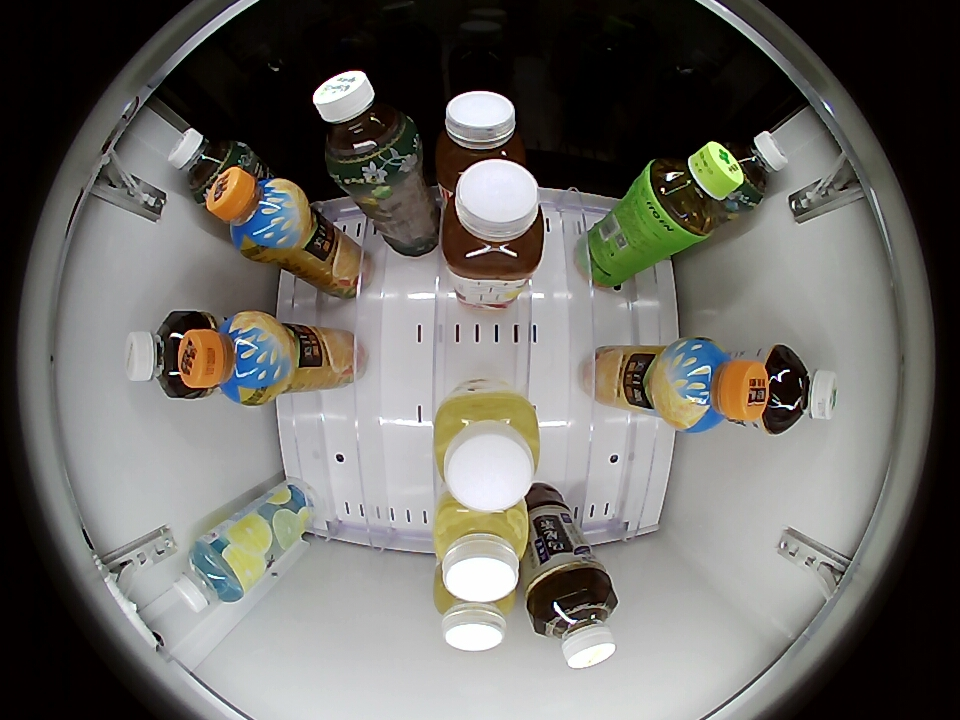chapai: (441, 160, 545, 284), (434, 91, 530, 189)
chapai2: (434, 385, 542, 510), (433, 501, 529, 603), (434, 576, 516, 651)
damaicha: (762, 345, 840, 435)
guolicheng: (654, 338, 770, 432), (180, 311, 290, 405), (207, 167, 309, 259)
moliqingcha: (314, 70, 421, 183), (168, 128, 250, 203), (719, 130, 788, 207)
qinningshui: (172, 538, 250, 612)
wulongcha: (529, 579, 619, 669), (124, 311, 199, 400)
yitengyuan: (642, 142, 744, 243)
